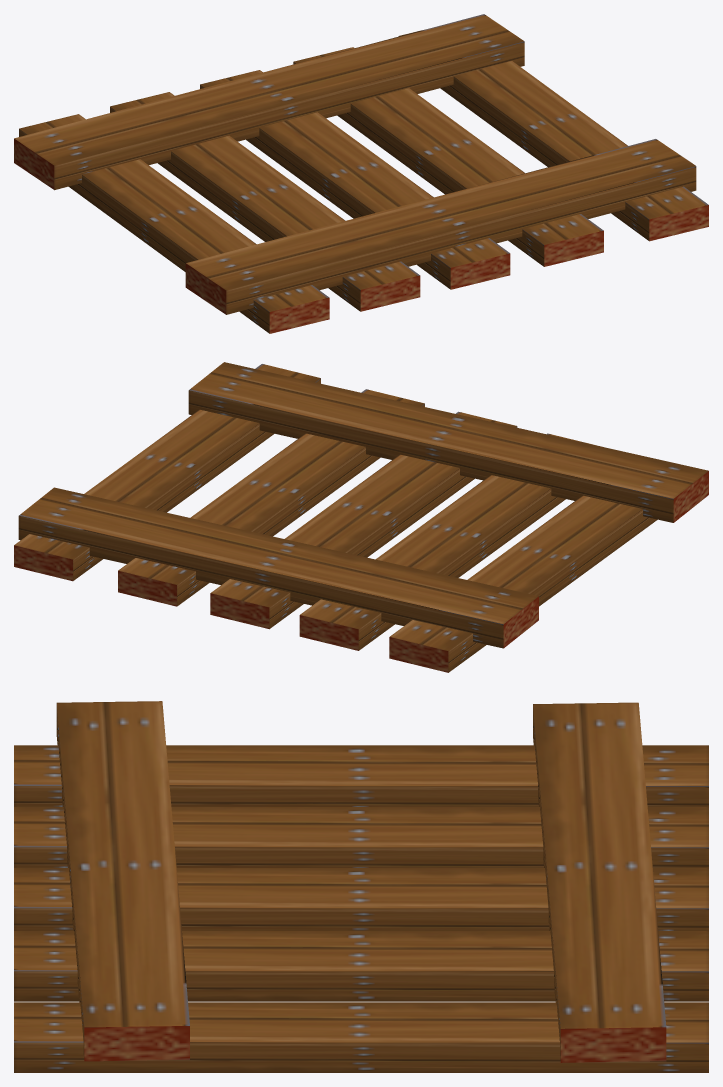
The model's file is prop7.FBX.
3 renders of one model, top to bottom at view 1: azimuth 30°, elevation 25°; view 2: azimuth 150°, elevation 25°; view 3: azimuth 270°, elevation 25°, orthographic. The views are drawn at different scales.
Visible parts, largest first — view 1: Box007; view 2: Box007; view 3: Box007.
Boxes of the visible parts, x1,y1,x2,y2 form: Box007: [14, 14, 708, 333]; Box007: [14, 362, 708, 672]; Box007: [14, 701, 708, 1072].
Bounding box in the file's own units: 50.9 × 3.93 × 45.8.
